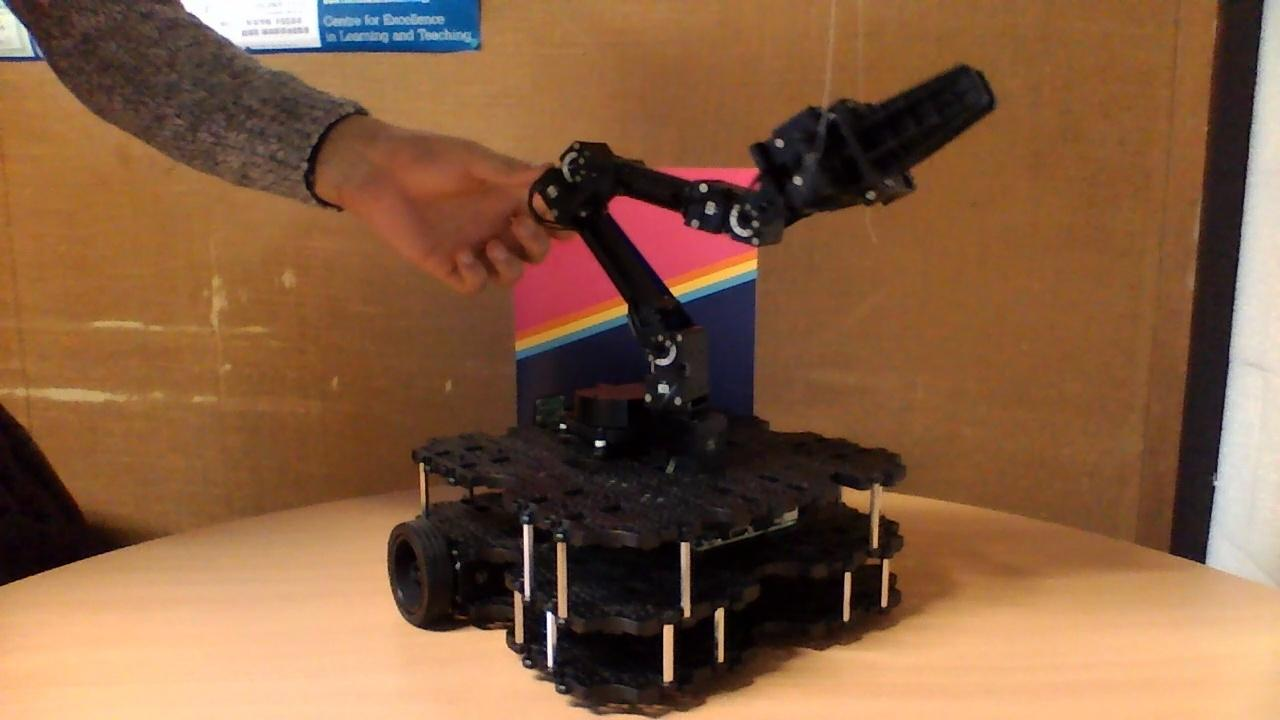Arm: (529, 163, 712, 368)
Hand: (726, 63, 1000, 247)
Wrist: (559, 136, 787, 249)
base: (385, 377, 907, 705)
